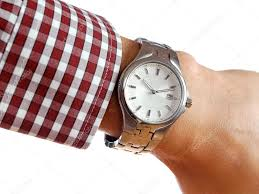clock: (124, 62, 183, 124)
